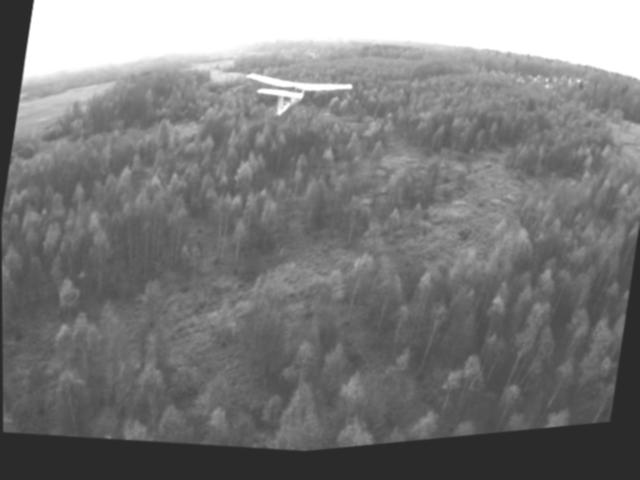hedef: (235, 64, 357, 143)
